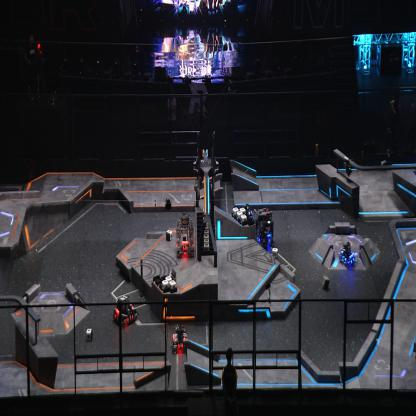car: (252, 206, 274, 248), (112, 292, 140, 325), (176, 212, 194, 258), (171, 322, 190, 353), (338, 240, 356, 268)
